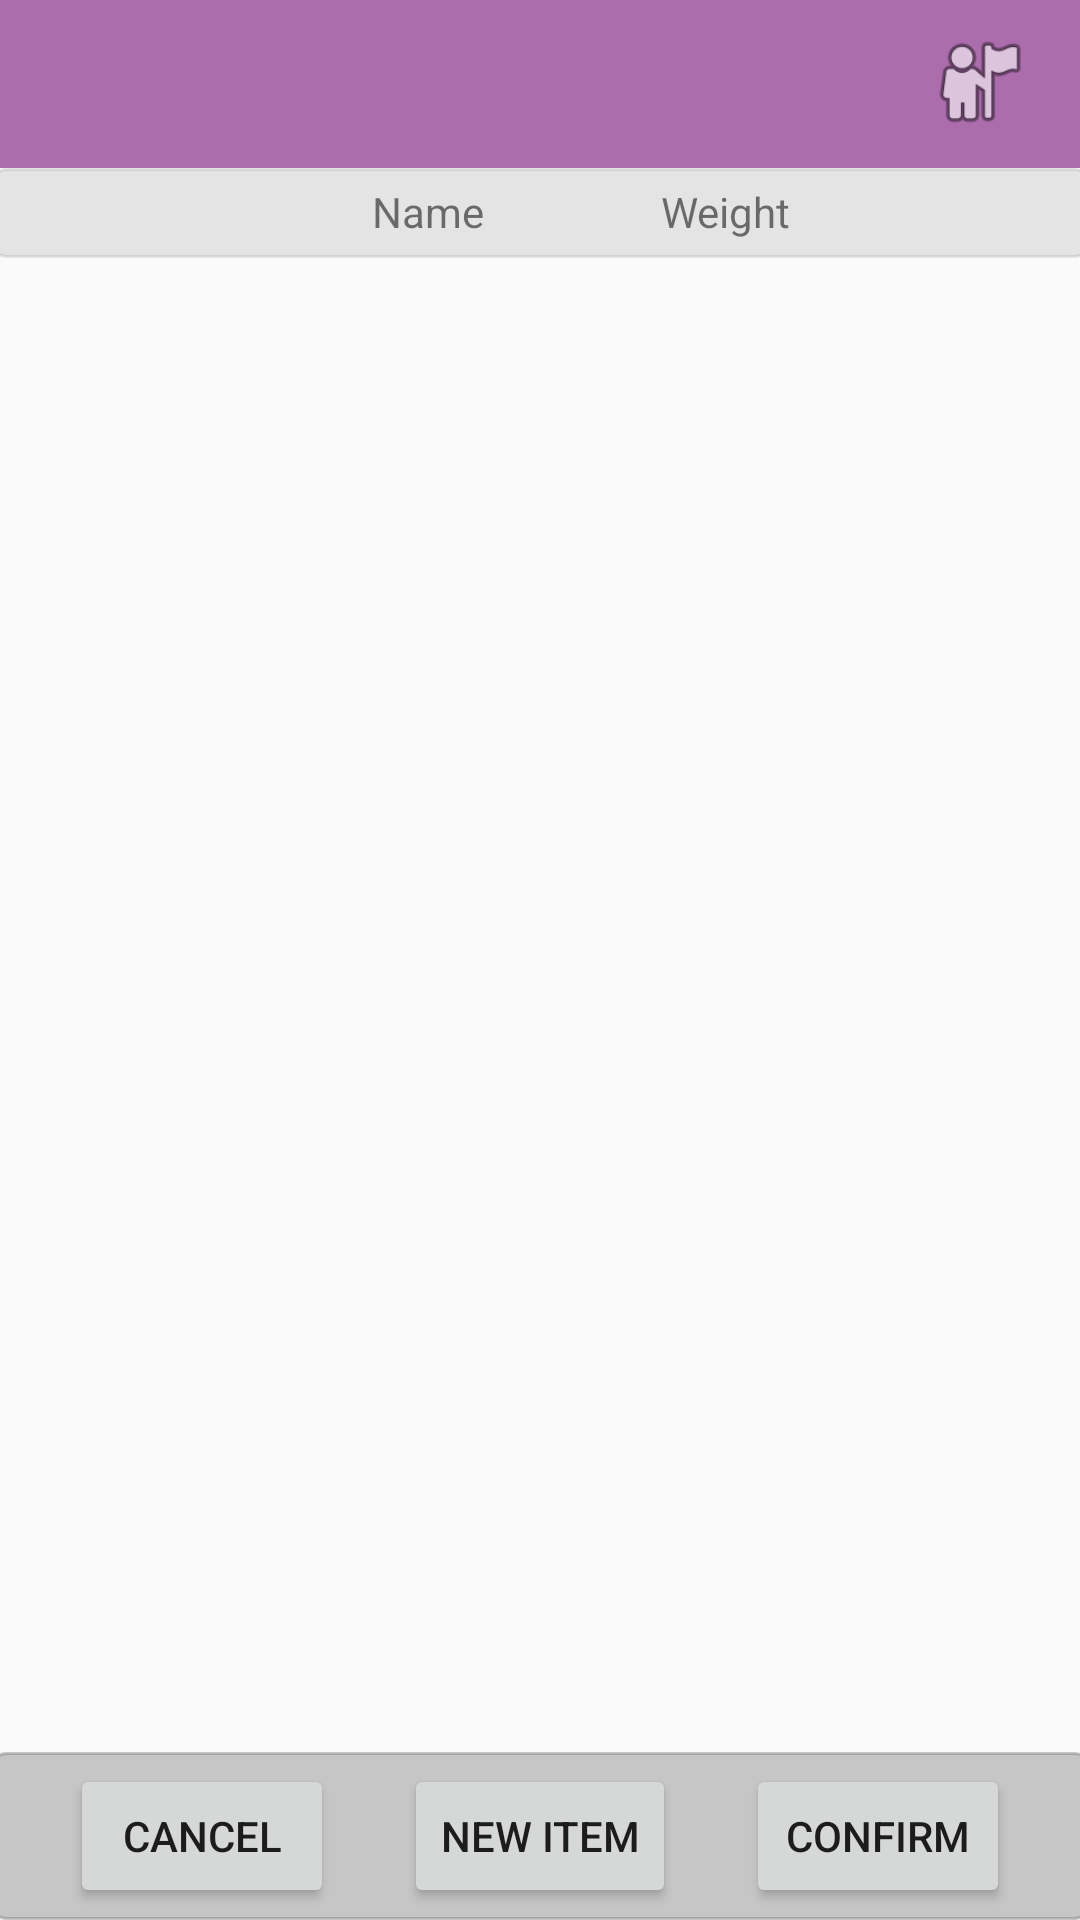

Screen size 1080*1920. Icon name, then its center in pixels as (x,y):
myplaces: (980,82)
